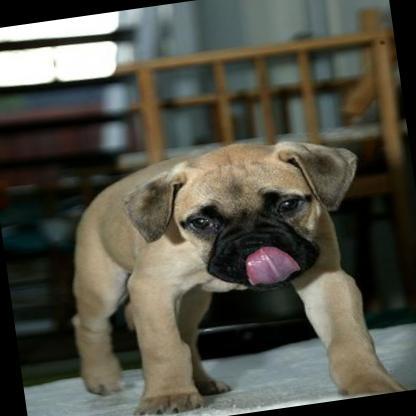bull_mastiff: (47, 121, 400, 416)
